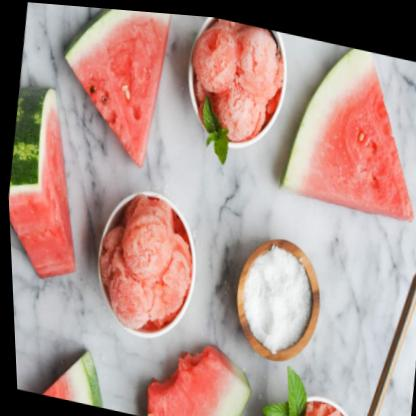--: (260, 26, 416, 239), (45, 3, 184, 186), (2, 58, 101, 295)
